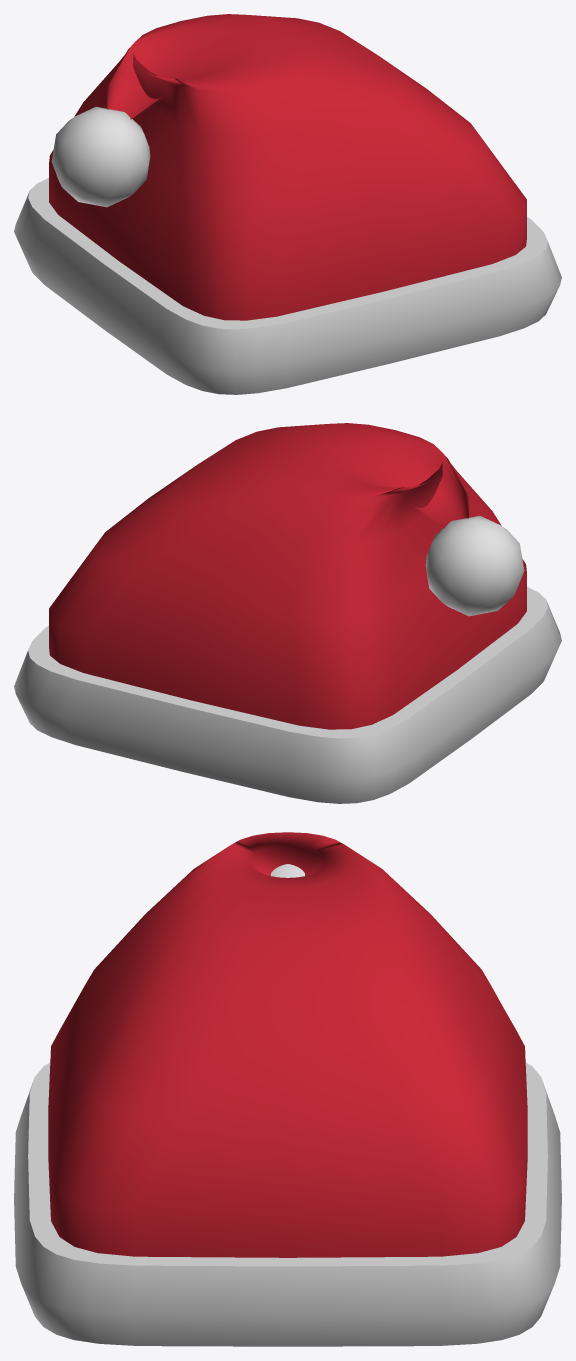
File: santa.glb
3 views of the same model, one above another, from view 1: azimuth 30°, elevation 25°; view 2: azimuth 150°, elevation 25°; view 3: azimuth 270°, elevation 25° (orthographic). The views are drawn at different scales.
Visible parts, largest first — view 1: Cap, Fur; view 2: Cap, Fur; view 3: Cap, Fur.
Boxes of the visible parts, <box> form: Cap: <box>49,14,526,320</box>; Fur: <box>14,106,561,394</box>; Cap: <box>49,423,526,729</box>; Fur: <box>14,515,561,803</box>; Cap: <box>48,832,527,1257</box>; Fur: <box>14,864,561,1346</box>.
Size of the model in its own units: 0.593 by 0.343 by 0.544.
